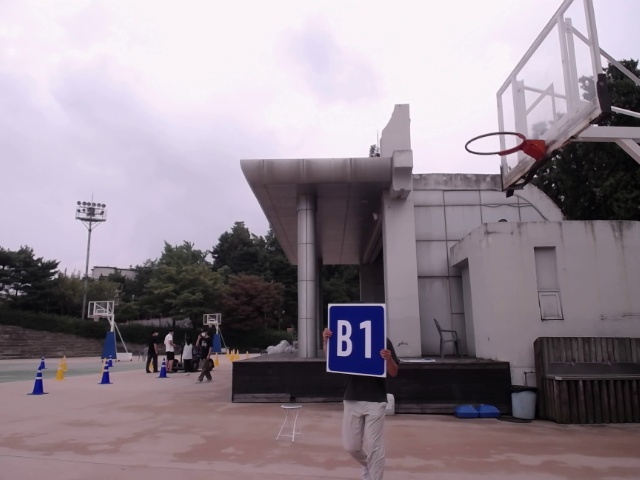delivery_b1: (328, 304, 386, 377)
